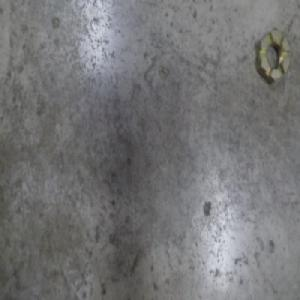Nut: (255, 26, 291, 88)
